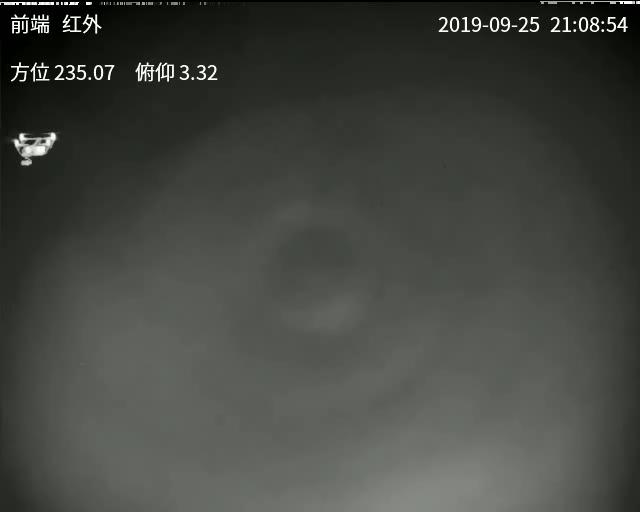uav: (13, 130, 58, 166)
